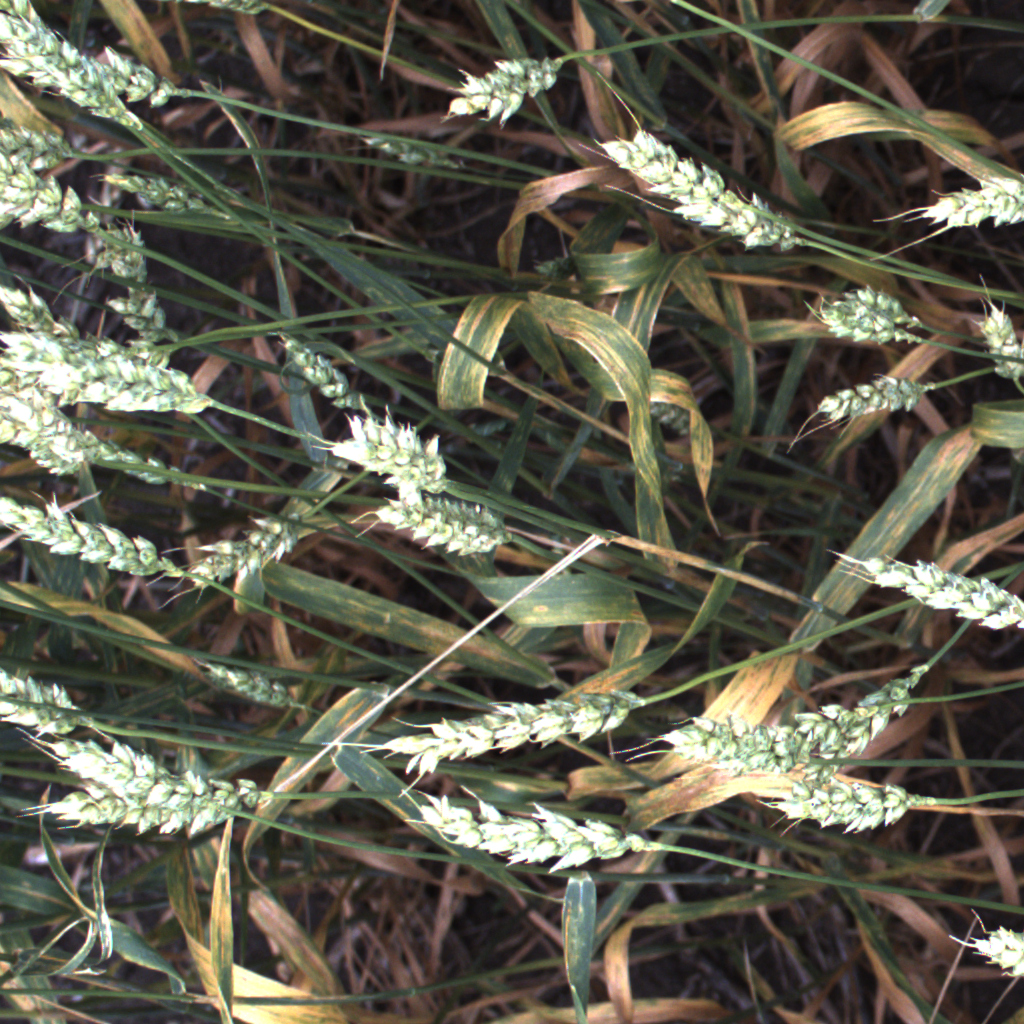wheat_head: (596, 133, 818, 274), (410, 778, 652, 887), (376, 691, 655, 784), (828, 526, 1024, 658), (11, 768, 286, 860), (630, 686, 915, 770), (699, 759, 952, 847), (0, 488, 192, 599), (783, 662, 953, 782), (32, 716, 233, 817), (0, 326, 217, 414), (316, 395, 475, 490), (0, 7, 152, 106), (178, 506, 312, 609), (434, 37, 571, 126), (0, 143, 108, 252), (801, 357, 938, 439), (360, 483, 511, 555), (92, 155, 233, 229), (0, 99, 145, 164), (0, 653, 93, 754), (898, 161, 1024, 235), (801, 284, 924, 359), (189, 645, 303, 725), (97, 435, 250, 494), (99, 269, 205, 350), (829, 260, 935, 340), (260, 318, 372, 392), (86, 50, 207, 115), (1, 410, 108, 479), (943, 906, 1024, 990), (961, 287, 1024, 394), (67, 212, 157, 284), (0, 264, 81, 341), (359, 133, 460, 175)
